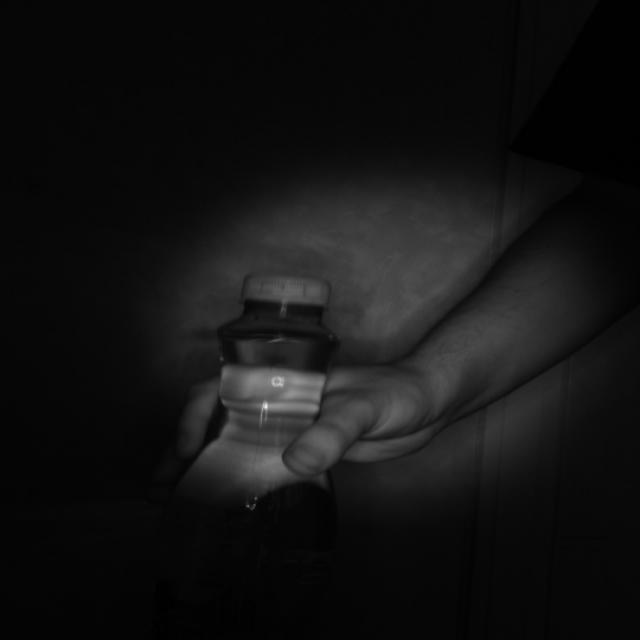Good: (242, 273, 332, 308)
